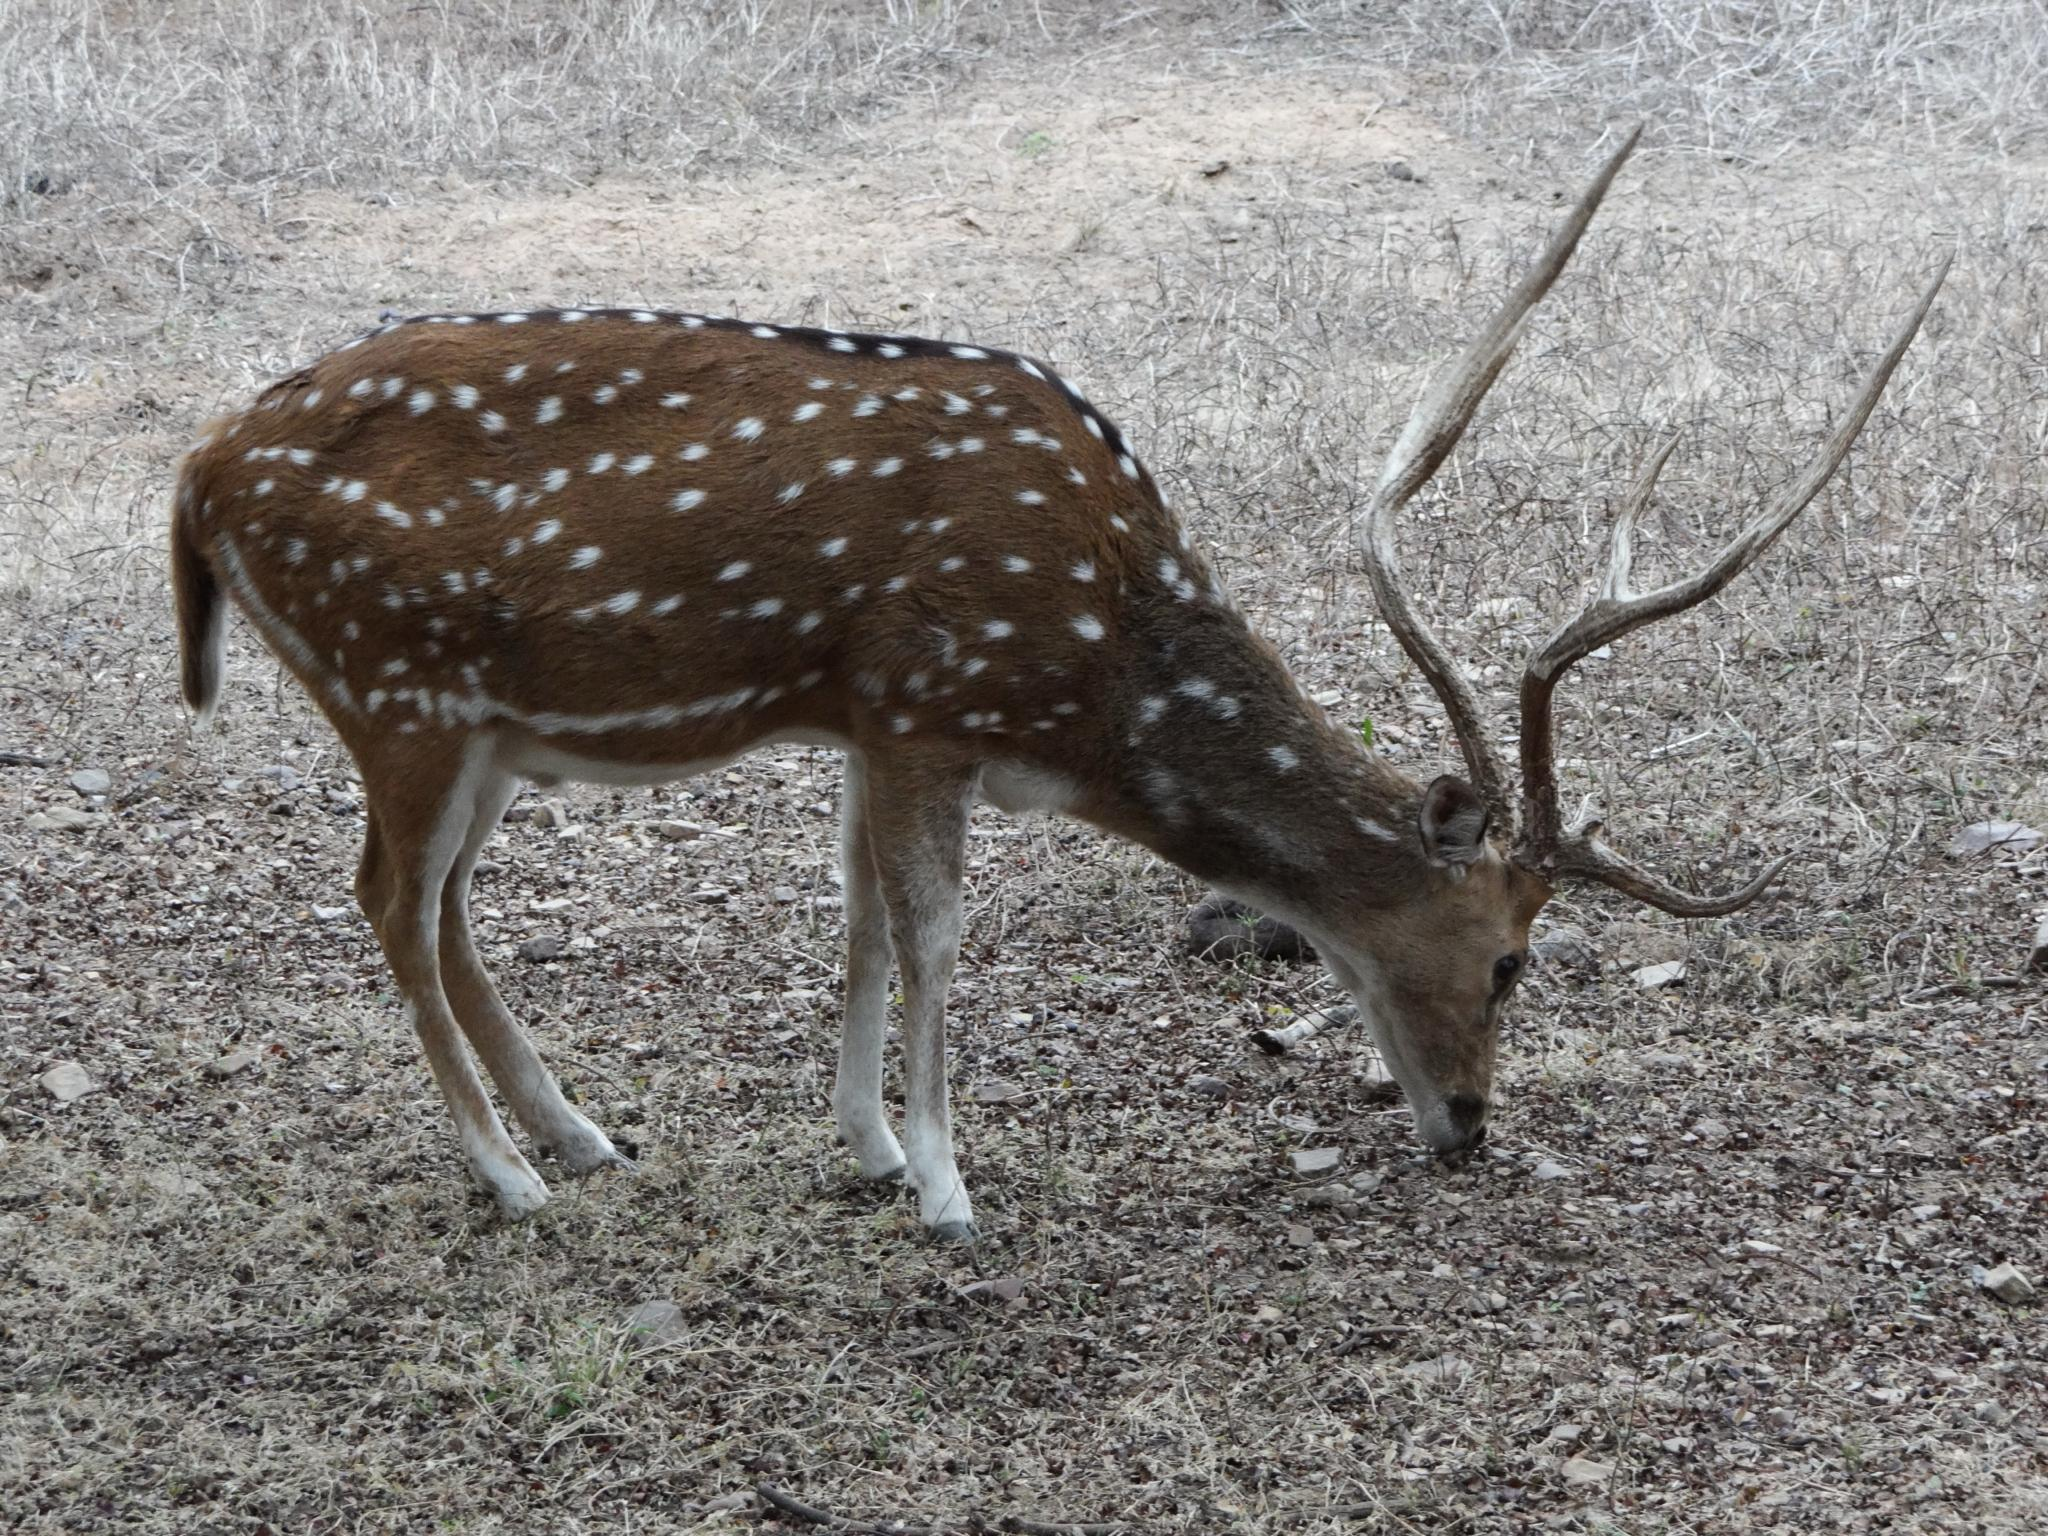Deer: (173, 308, 1538, 1234)
